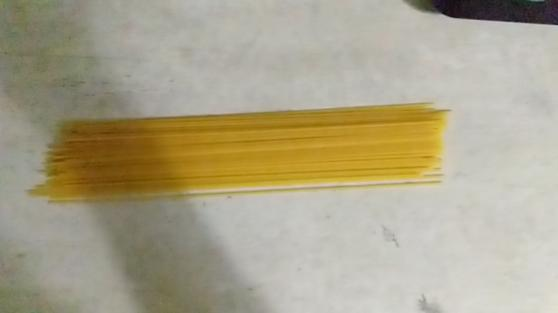spaghetti: (19, 97, 465, 228)
